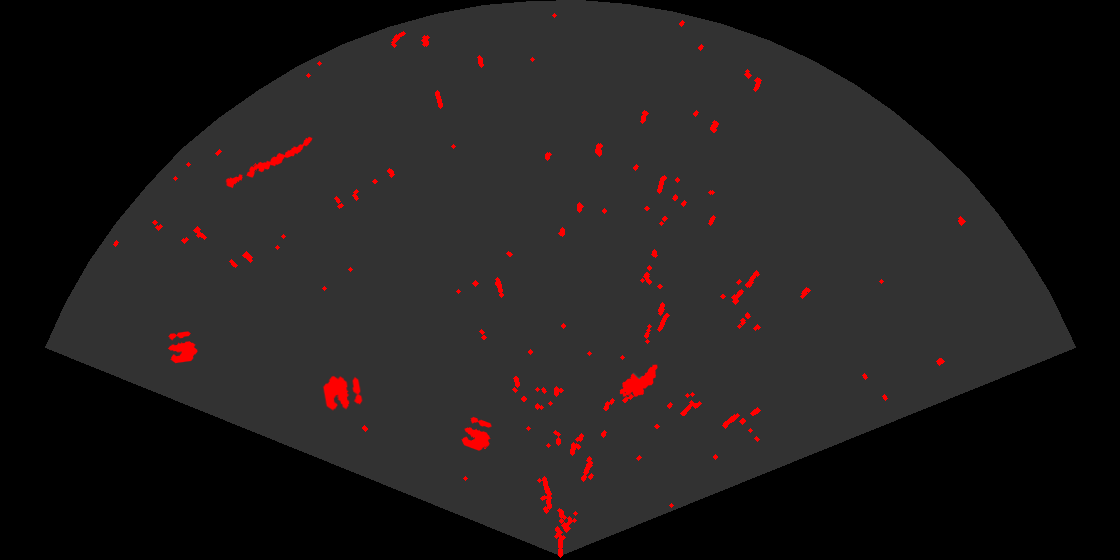AUV: (618, 363, 659, 398)
ball: (321, 374, 364, 412), (460, 415, 493, 452), (166, 330, 199, 365)
chain: (224, 135, 314, 190)
